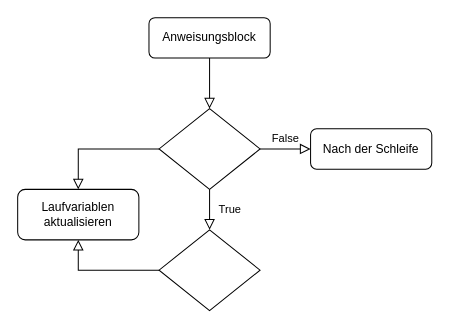
Image size: 449x328. Some labels were removed from this diagram. The centre of each missing label's shape, as x and y in pixels:
Bedingung: [209,148]
Schleifenblock: [209,270]
